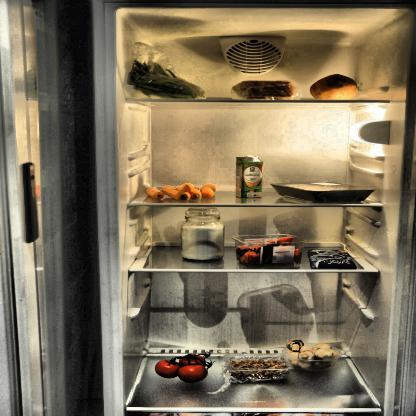carrot: (140, 184, 221, 199)
chocolate: (308, 248, 359, 268)
green_beans: (128, 58, 206, 100)
heavy_cream: (233, 156, 263, 202)
mushrooms: (287, 339, 340, 368)
shrimp: (225, 356, 284, 382)
strawberries: (233, 235, 306, 264)
sweet_potato: (307, 74, 363, 100)
tomato: (154, 352, 215, 383)
